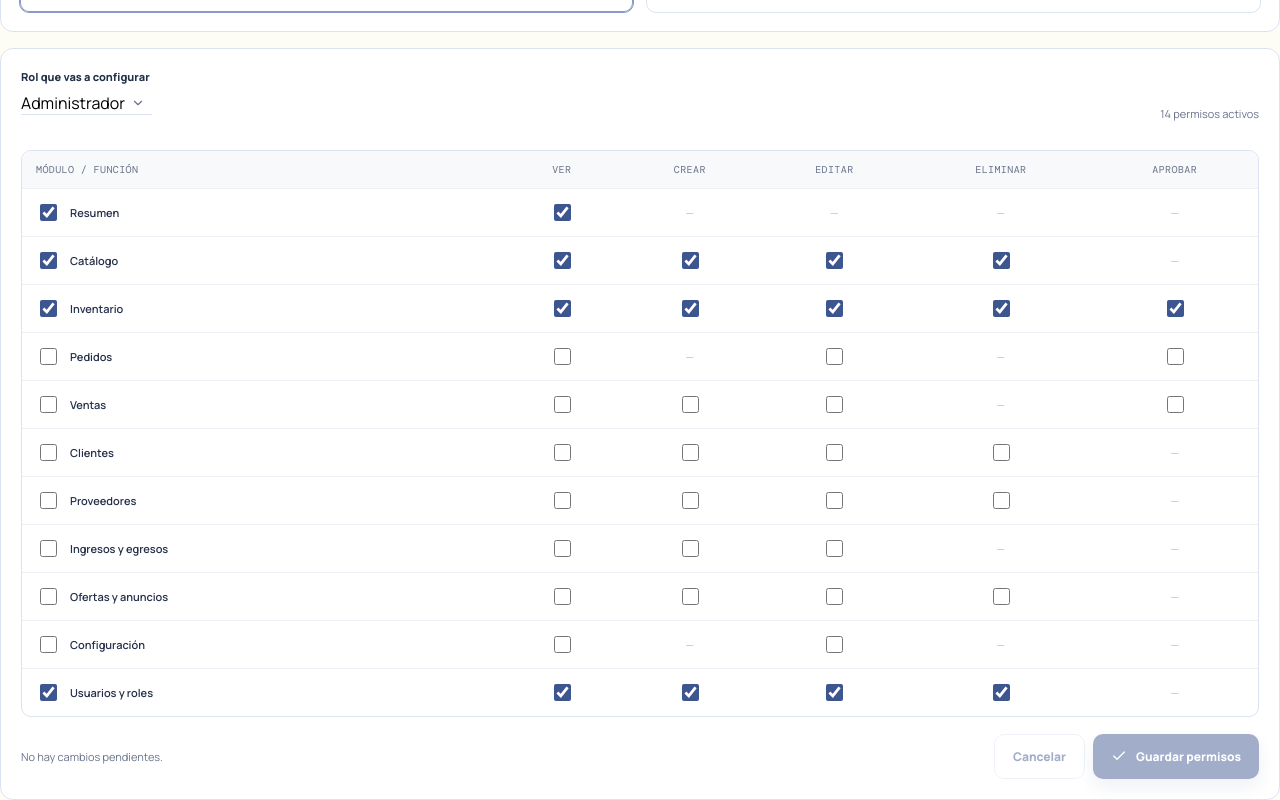
Scenario: módulos asignados por rol › actualiza el resumen del rol después de guardar permisos
The image size is (1280, 800).
(page scrolled)
Click the checkbox named "Seleccionar todos los permisos de Ingresos y egresos". click: click(48, 548)
box: [40,540,57,556]
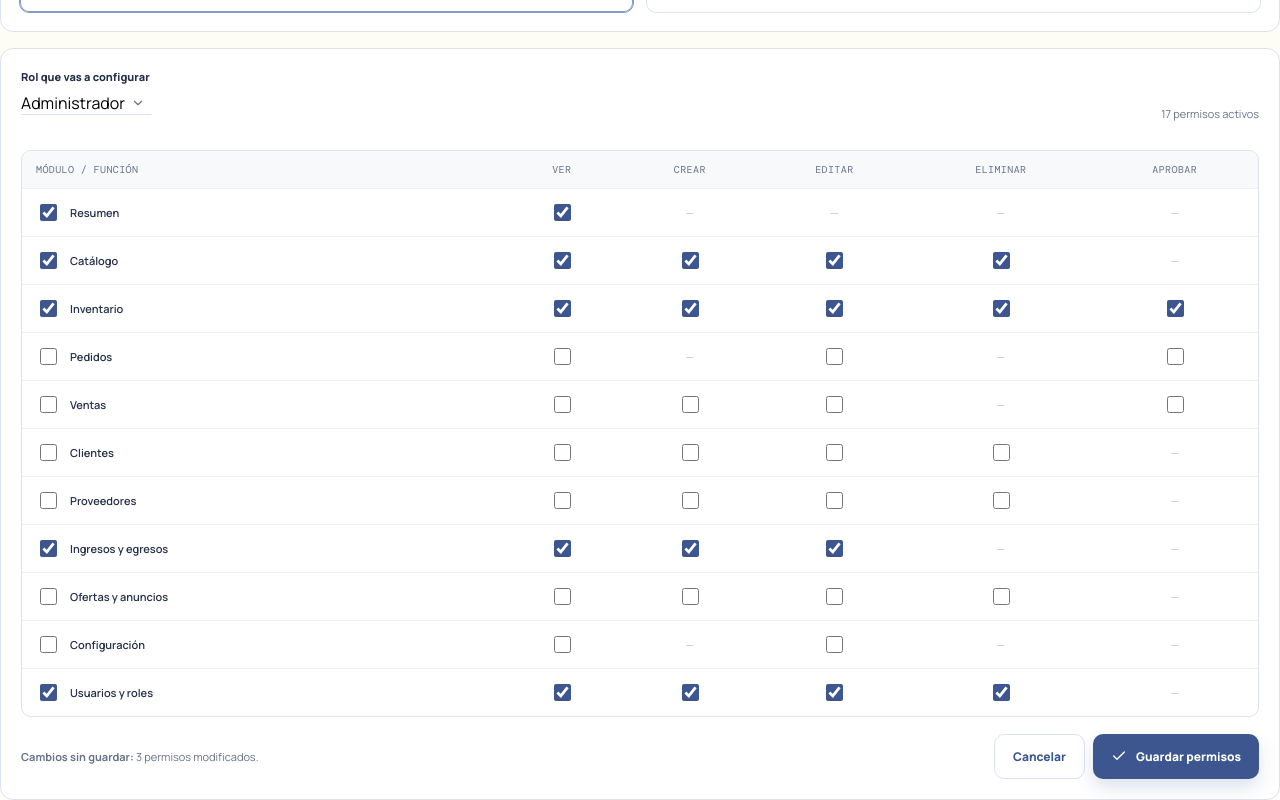
Click the button "Guardar permisos". click: click(1176, 756)
box: [1093,734,1259,778]
(page scrolled)
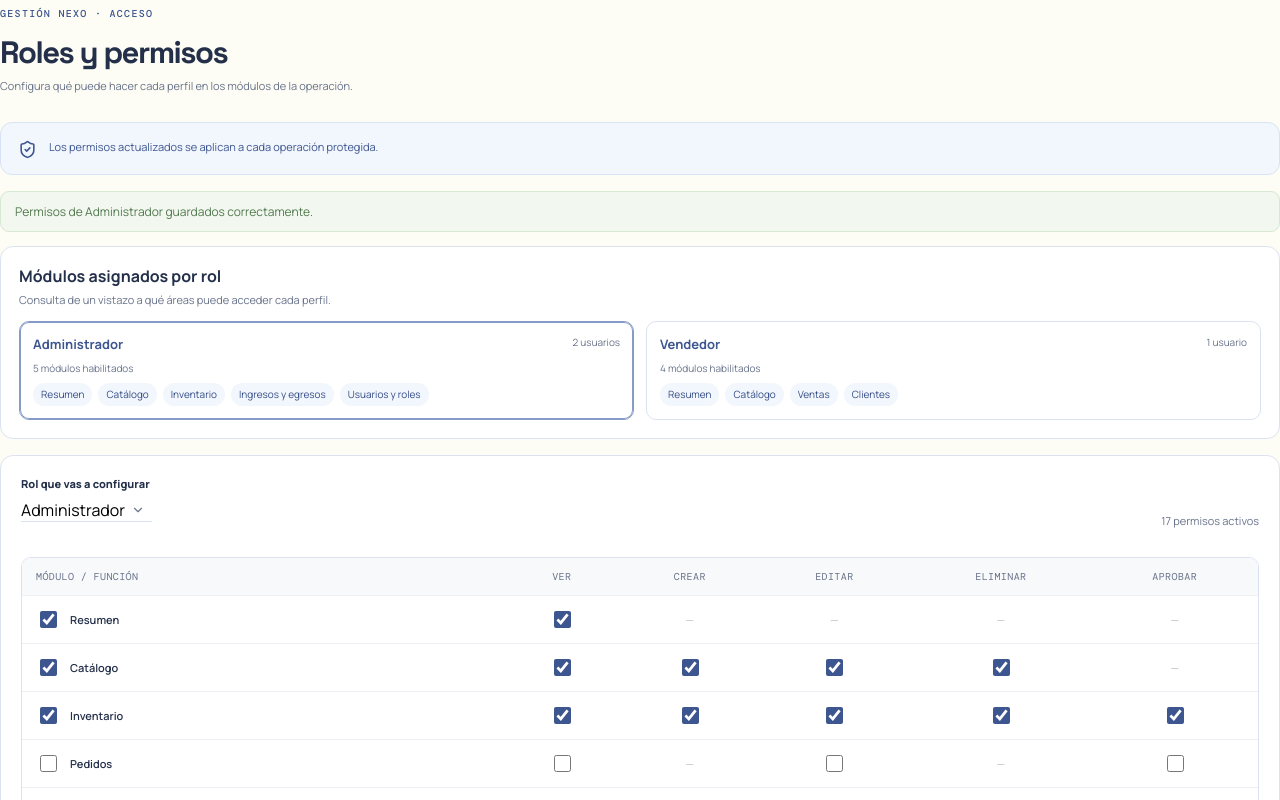
Expected: the list item "Ingresos y egresos" is shown, [231,383,334,406]
